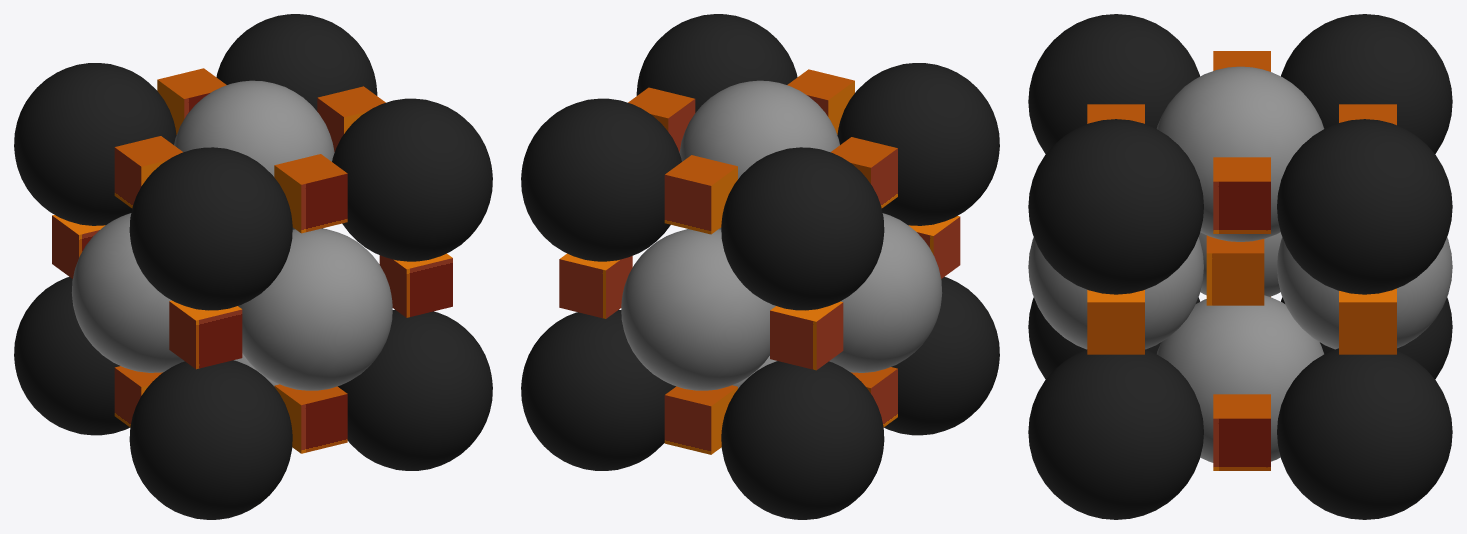
File: solid_state_qn_034.glb
3 views of the same model, side by side, from view 1: azimuth 30°, elevation 25°; view 2: azimuth 150°, elevation 25°; view 3: azimuth 270°, elevation 25° (orthographic). The views are drawn at different scales.
Parts seen in each view (by area): view 1: Icosphere.072, Icosphere.068, Icosphere.075, Icosphere.077, Icosphere.071, Icosphere.073, Icosphere.069, Icosphere.080, Icosphere.078, Icosphere.074, Cube.005, Cube.011 (+7 smaller); view 2: Icosphere.073, Icosphere.069, Icosphere.074, Icosphere.076, Icosphere.070, Icosphere.072, Icosphere.068, Icosphere.080, Icosphere.078, Icosphere.075, Cube.006, Cube.009 (+7 smaller); view 3: Icosphere.074, Icosphere.075, Icosphere.071, Icosphere.070, Icosphere.072, Icosphere.073, Icosphere.078, Icosphere.079, Icosphere.077, Icosphere.076, Cube.003, Cube.007 (+9 smaller).
Part boxes in pixels (box(x1,y1,x2,y2)): Icosphere.072: box(129, 147, 292, 310); Icosphere.068: box(129, 360, 292, 519); Icosphere.075: box(332, 98, 492, 261); Icosphere.077: box(238, 228, 392, 390); Icosphere.071: box(338, 309, 492, 470); Icosphere.073: box(14, 63, 176, 225); Icosphere.069: box(14, 277, 129, 435); Icosphere.080: box(71, 213, 184, 372); Icosphere.078: box(174, 80, 334, 229); Icosphere.074: box(216, 14, 377, 111); Cube.005: box(274, 154, 347, 233); Cube.011: box(169, 300, 242, 369); Icosphere.073: box(721, 147, 884, 310); Icosphere.069: box(721, 361, 884, 519); Icosphere.074: box(521, 98, 681, 261); Icosphere.076: box(621, 229, 775, 390); Icosphere.070: box(521, 309, 675, 470); Icosphere.072: box(837, 63, 999, 225); Icosphere.068: box(884, 277, 999, 435); Icosphere.080: box(829, 213, 942, 372); Icosphere.078: box(679, 80, 839, 229); Icosphere.075: box(636, 14, 797, 112); Cube.006: box(664, 155, 737, 234); Cube.009: box(770, 301, 843, 370); Icosphere.074: box(1277, 119, 1452, 294); Icosphere.075: box(1028, 119, 1203, 294); Icosphere.071: box(1028, 349, 1203, 519); Icosphere.070: box(1277, 348, 1452, 519); Icosphere.072: box(1028, 14, 1199, 153); Icosphere.073: box(1281, 14, 1452, 153); Icosphere.078: box(1156, 66, 1324, 241); Icosphere.079: box(1157, 295, 1323, 462); Icosphere.077: box(1028, 237, 1203, 349); Icosphere.076: box(1277, 237, 1452, 349); Cube.003: box(1213, 394, 1270, 470); Cube.007: box(1213, 157, 1270, 233).
Size of the model in its own units: 4.83 by 4.83 by 4.83.
1 material, 1 textured.
